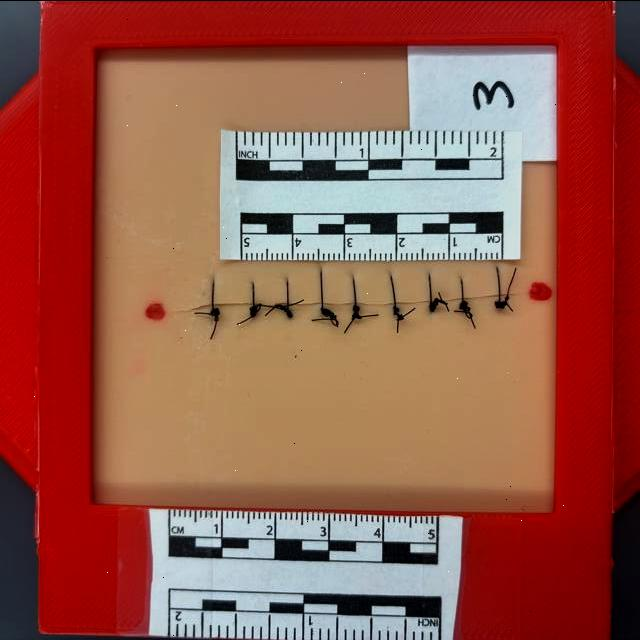incision_line: (332, 291, 536, 302), (160, 302, 332, 310)
scale_marker: (396, 237, 450, 259)
suture_d: (213, 292, 253, 300), (254, 292, 288, 300), (288, 292, 322, 300), (321, 292, 355, 299), (354, 282, 391, 288), (462, 286, 498, 292), (396, 291, 430, 297), (430, 288, 462, 292)
suture_l: (353, 301, 357, 310), (429, 298, 432, 306), (498, 294, 501, 302), (394, 300, 396, 310), (212, 304, 215, 310), (461, 295, 463, 303), (321, 302, 323, 309), (252, 304, 255, 308), (287, 303, 289, 305)
suture_r: (390, 275, 396, 300), (496, 267, 500, 293), (429, 272, 432, 298), (212, 280, 215, 304), (252, 281, 255, 303), (320, 270, 322, 302), (354, 277, 356, 301), (287, 280, 289, 302), (461, 279, 463, 295)
